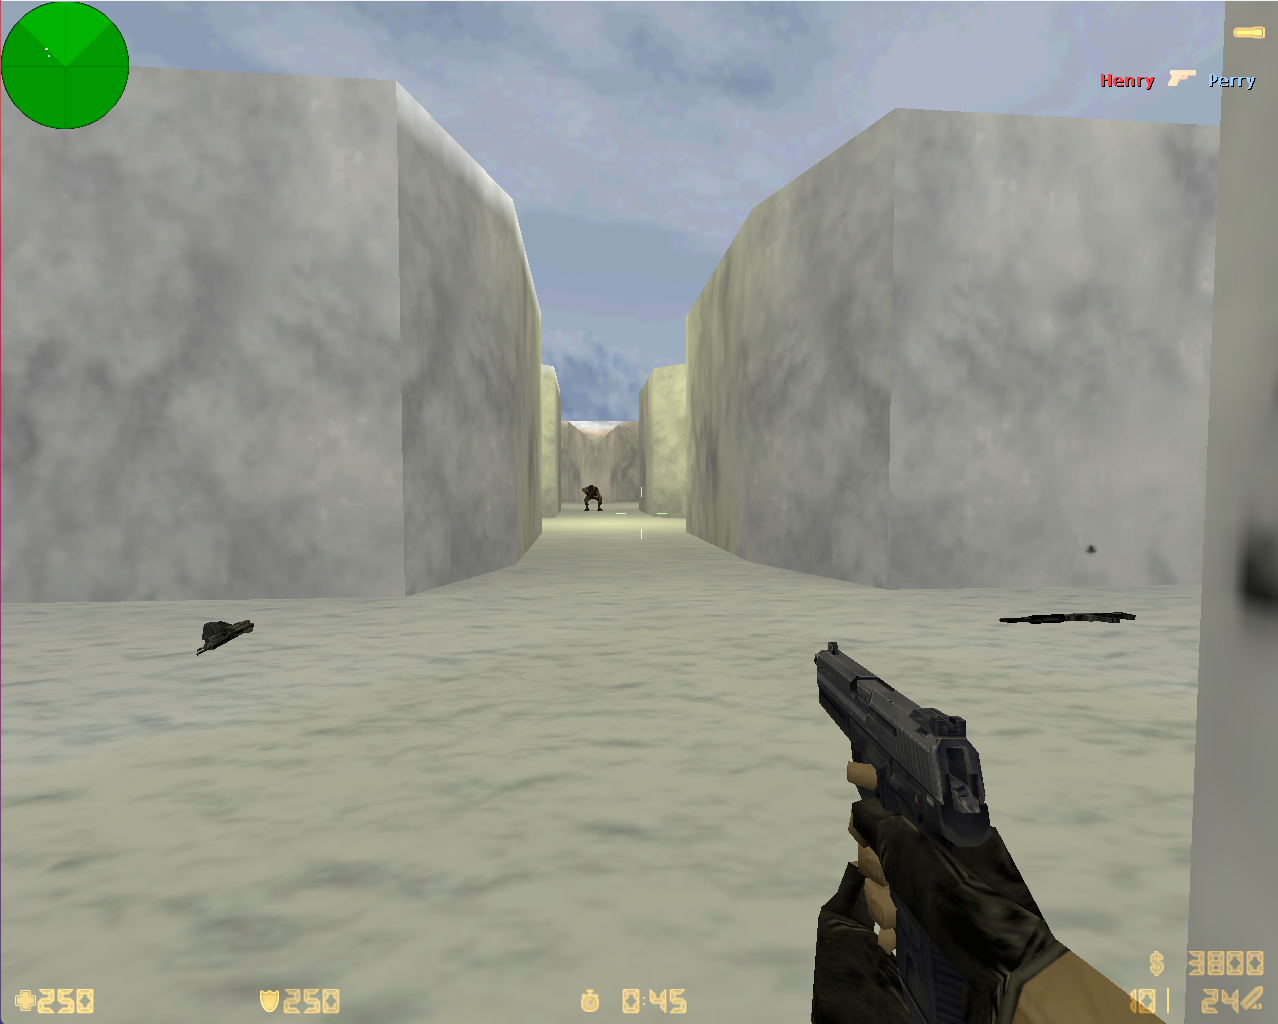T: (581, 483, 603, 514)
weapon: (979, 609, 1143, 629), (195, 620, 258, 657)
